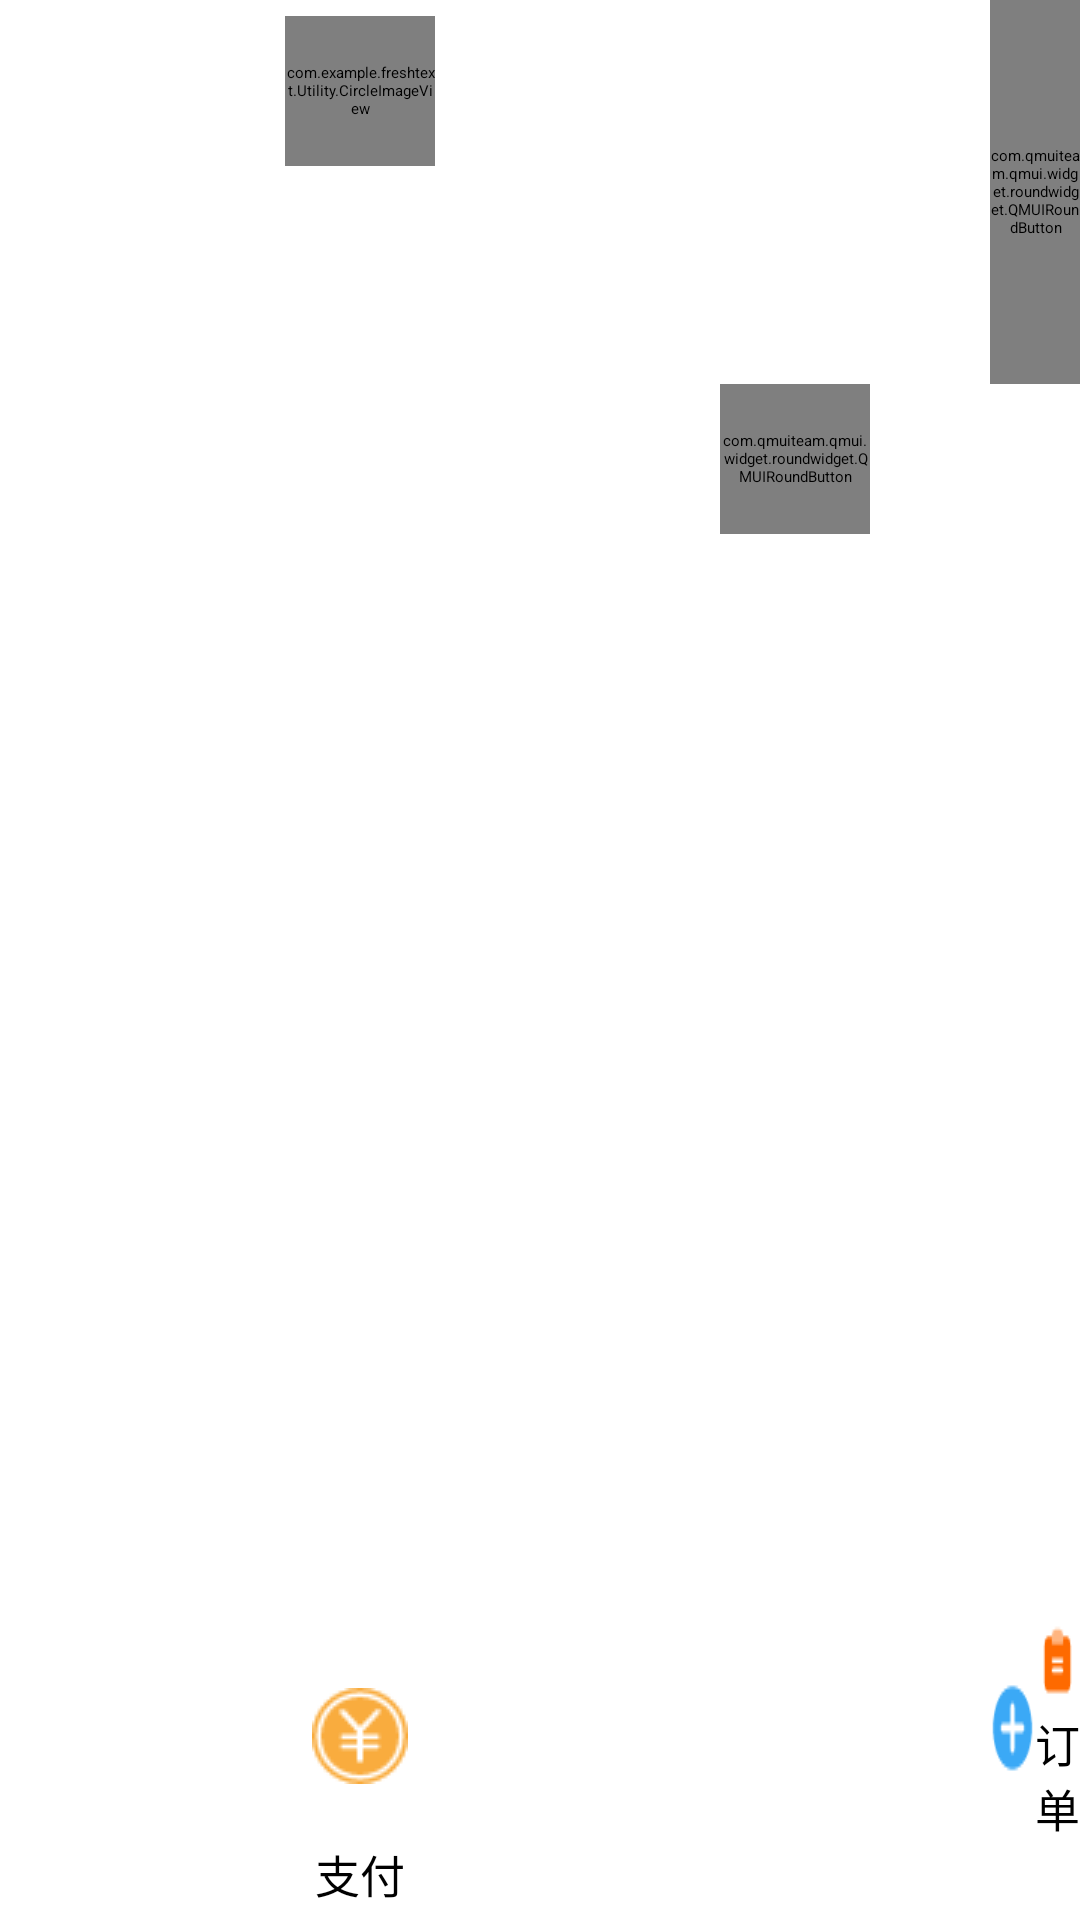

Icon bounding boxes for this 1080x1920 phone screenshot, format (x1, y1, x2, y2):
add: (992, 1685, 1033, 1771)
pay: (312, 1688, 408, 1784)
